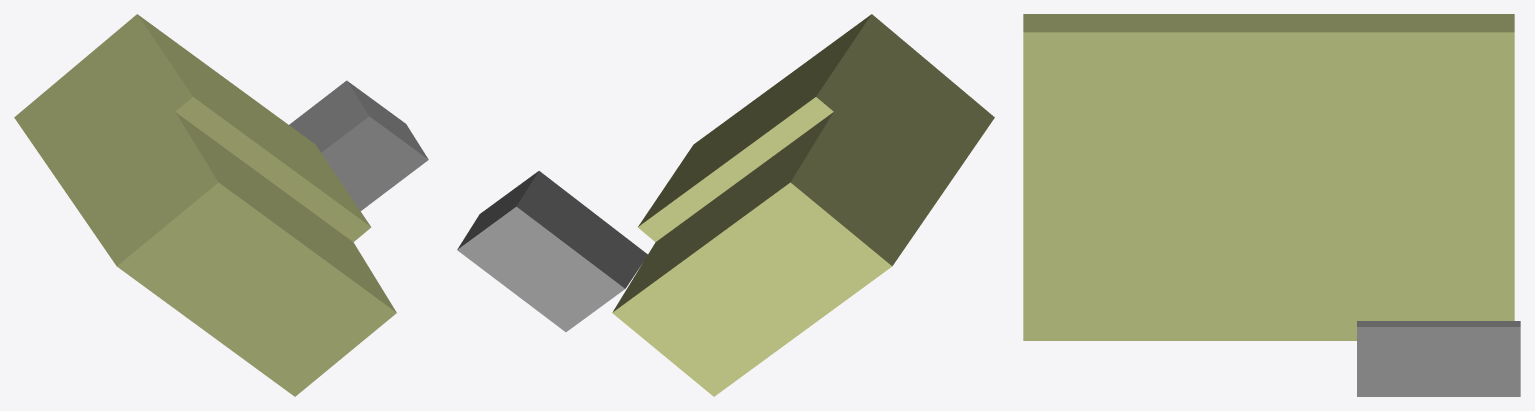
3 views of the same model, side by side, from view 1: azimuth 30°, elevation 25°; view 2: azimuth 150°, elevation 25°; view 3: azimuth 270°, elevation 25° (orthographic). The views are drawn at different scales.
Parts seen in each view (by area): view 1: 0_1_1_3_2_2_3_3_1_3_2; view 2: 0_1_1_3_2_2_3_3_1_3_2; view 3: 0_1_1_3_2_2_3_3_1_3_2.
Part boxes in pixels (x1=…): 0_1_1_3_2_2_3_3_1_3_2: x1=14, y1=14, x2=428, y2=396; 0_1_1_3_2_2_3_3_1_3_2: x1=457, y1=14, x2=994, y2=396; 0_1_1_3_2_2_3_3_1_3_2: x1=1023, y1=14, x2=1520, y2=396.
Bounding box in the file's own units: 10.41 × 6.89 × 9.11.
